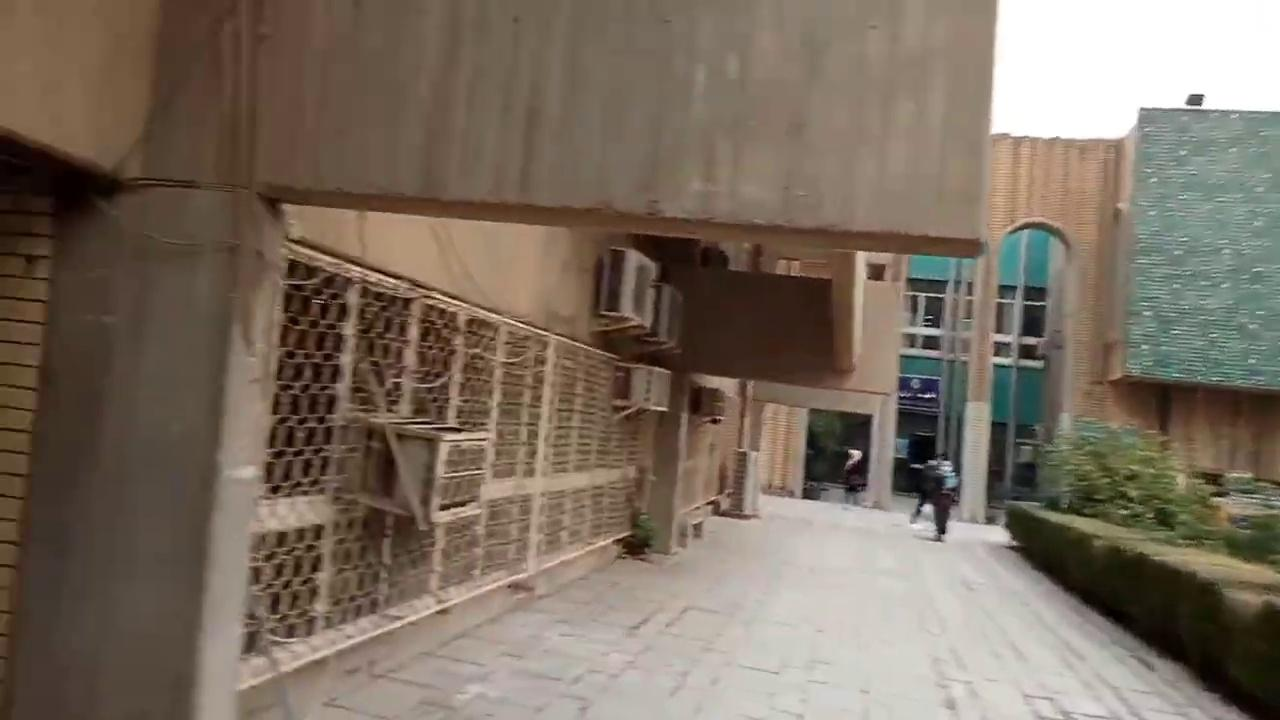person: (929, 451, 958, 542), (841, 447, 865, 507)
tree: (1002, 414, 1278, 716), (1035, 413, 1210, 532), (1036, 415, 1134, 516), (1123, 428, 1185, 527)
